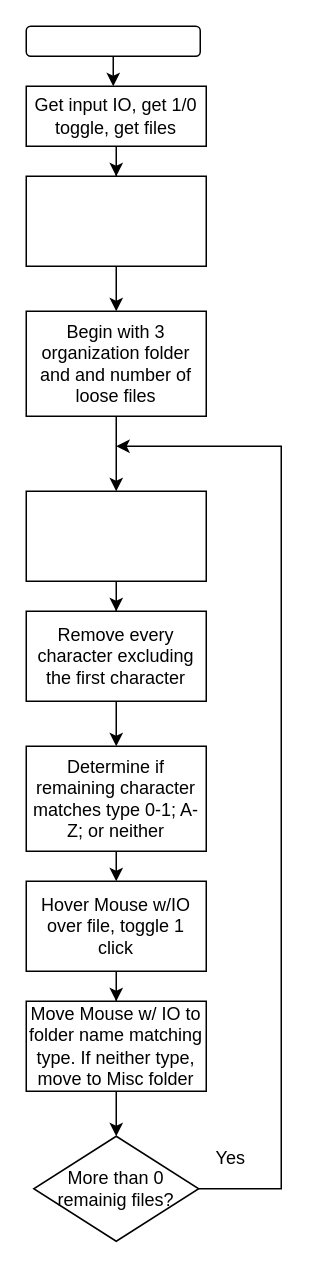
Image size: 320x1268. Some labels were removed from this diagram. Here are the shapes that lost their labels. From the top down, the centre of each, then its label:
At pixel 112 40: "Start".
At pixel 115 220: "Place loose files to same location as 3 organization folders".
At pixel 115 535: "Look at file at the top of the list".
